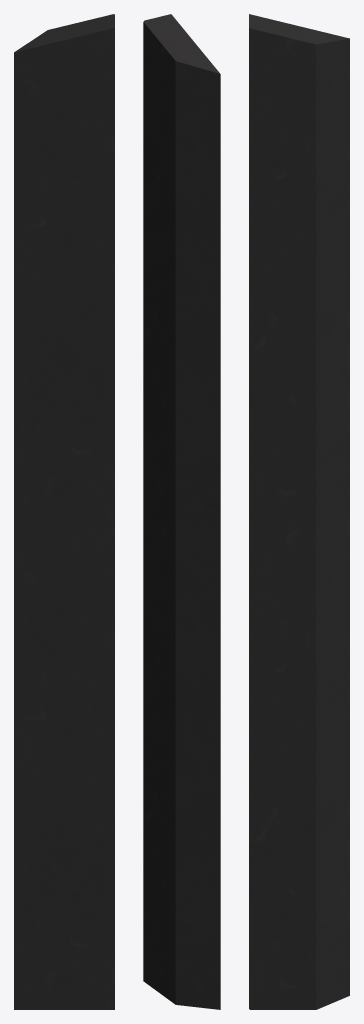
The model's file is A13.1.1 H.WALL. PNL 4828 ICL.E.fbx.
The picture shows the model from 3 angles, left to right: view 1: azimuth 90°, elevation 25°; view 2: azimuth 210°, elevation 25°; view 3: azimuth 270°, elevation 25°; orthographic projection. The views are drawn at different scales.
Parts seen in each view (by area): view 1: Model; view 2: Model; view 3: Model.
Boxes of the visible parts, bbox=[...] form: Model: bbox=[14, 14, 114, 1009]; Model: bbox=[143, 14, 220, 1009]; Model: bbox=[249, 14, 349, 1009].
Bounding box in the file's own units: 150 × 4828 × 450.
